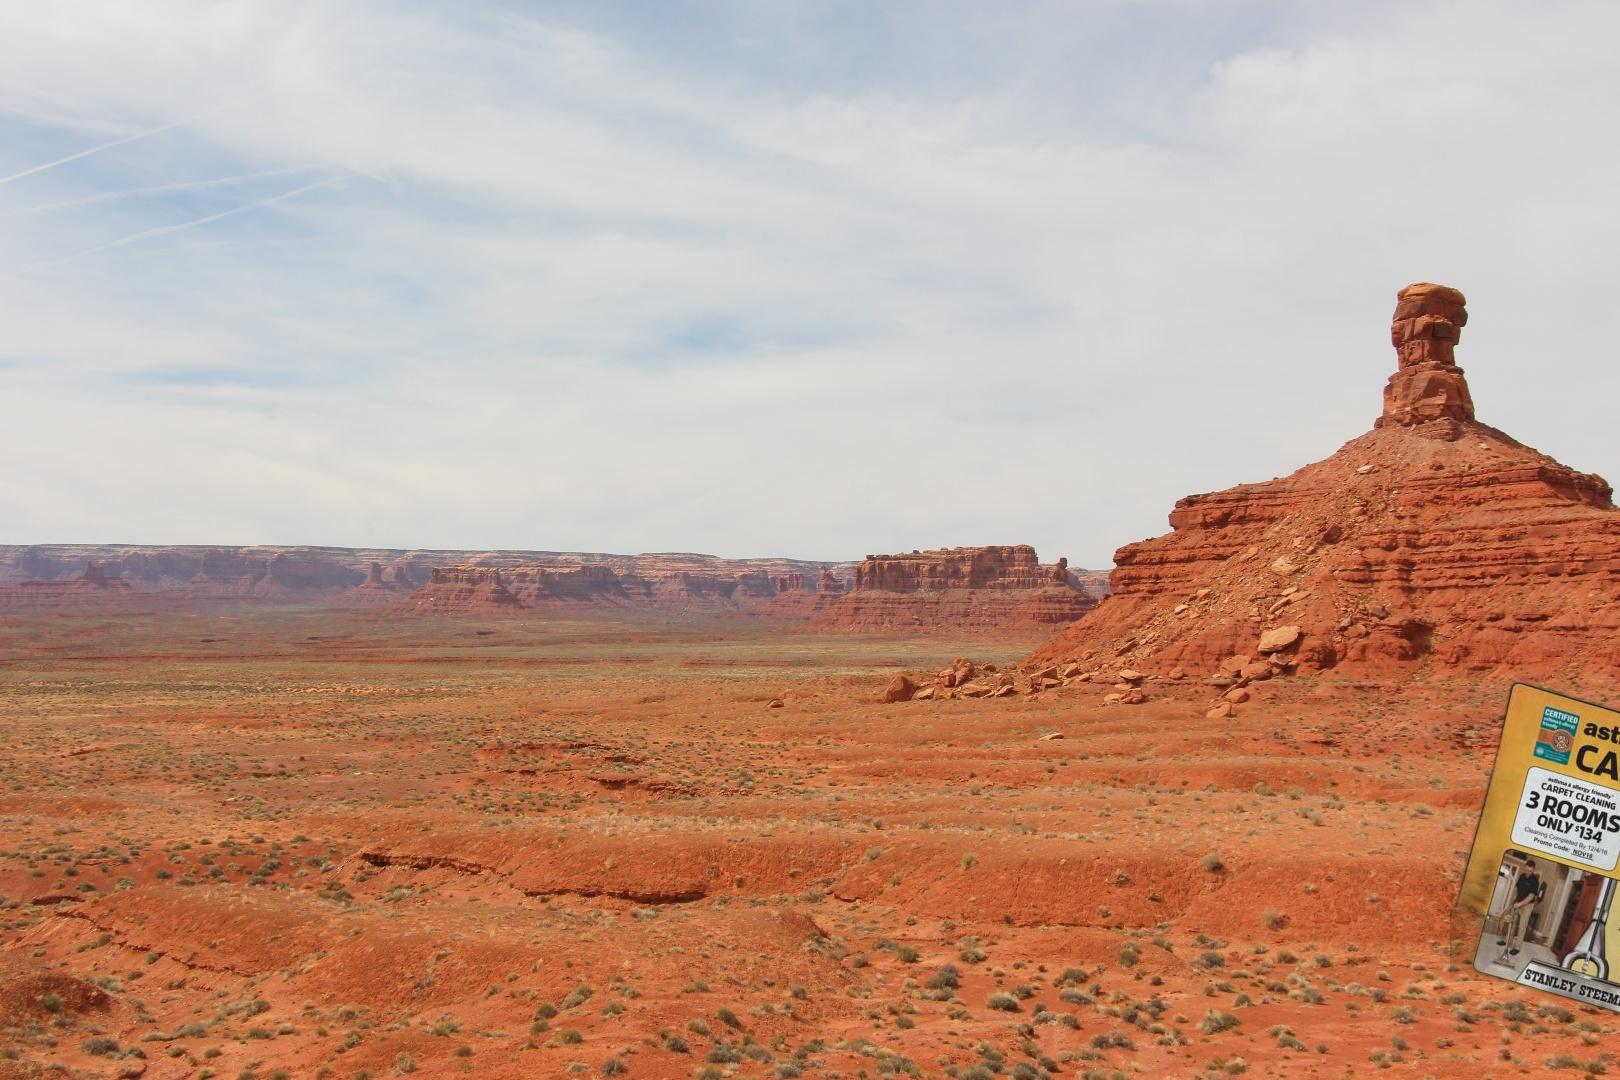paper: (1450, 667, 1620, 1021)
